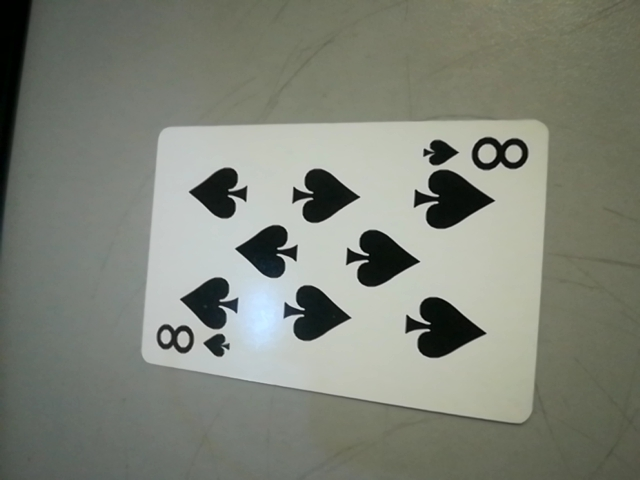ht 8: (436, 128, 537, 181)
